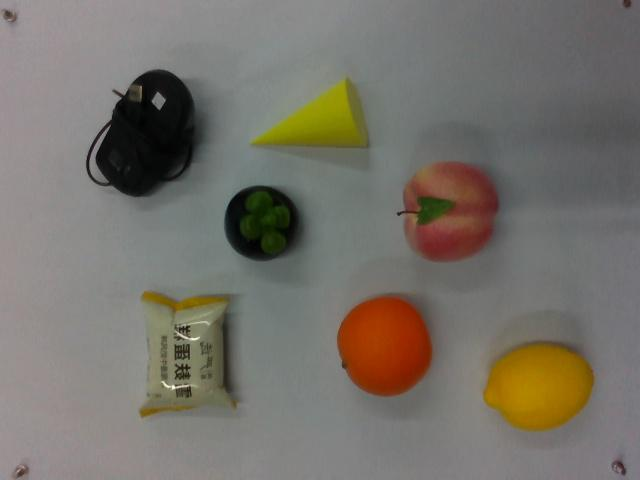cone: (246, 75, 371, 154)
dessert: (136, 293, 235, 422)
lemon: (484, 341, 597, 432)
mangosteen: (226, 185, 301, 259)
mouse: (82, 68, 202, 201)
orange: (340, 293, 430, 401)
peach: (399, 161, 502, 260)
